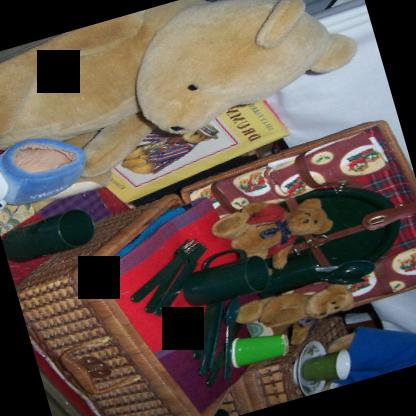suitcase: (22, 126, 416, 416)
